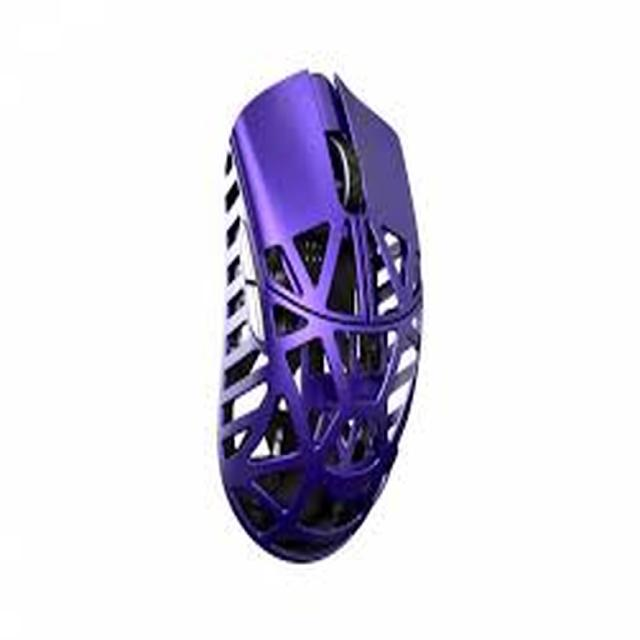mouse: (206, 73, 426, 573)
